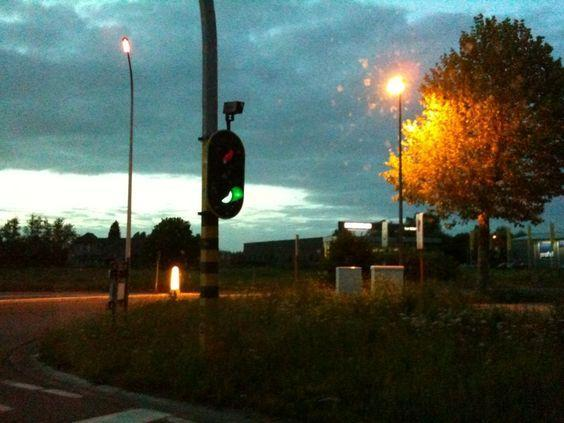green: (207, 127, 258, 228)
